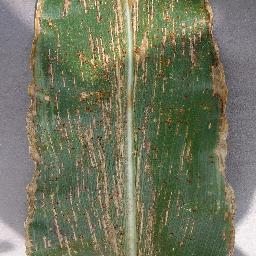Gray_Leaf_Spot: (26, 0, 233, 109), (18, 107, 129, 256), (133, 102, 170, 256), (216, 106, 247, 252), (170, 107, 194, 174), (172, 171, 187, 216), (181, 216, 197, 235), (167, 238, 188, 252), (186, 196, 199, 217), (188, 171, 197, 191), (210, 152, 220, 168), (208, 206, 216, 217), (208, 118, 214, 130), (170, 229, 176, 241), (193, 174, 204, 179), (205, 190, 211, 198)
